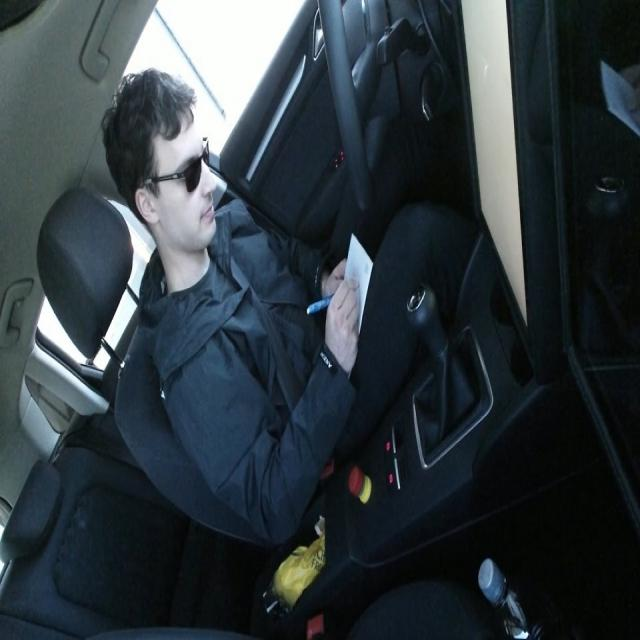pen: (306, 292, 334, 315)
